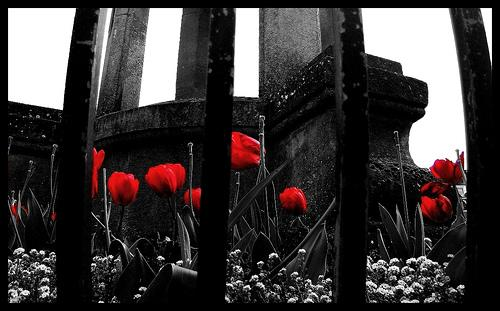tulip: (146, 160, 186, 195), (231, 130, 262, 171), (430, 153, 468, 186), (106, 169, 139, 205), (420, 190, 454, 221), (279, 183, 307, 212)
